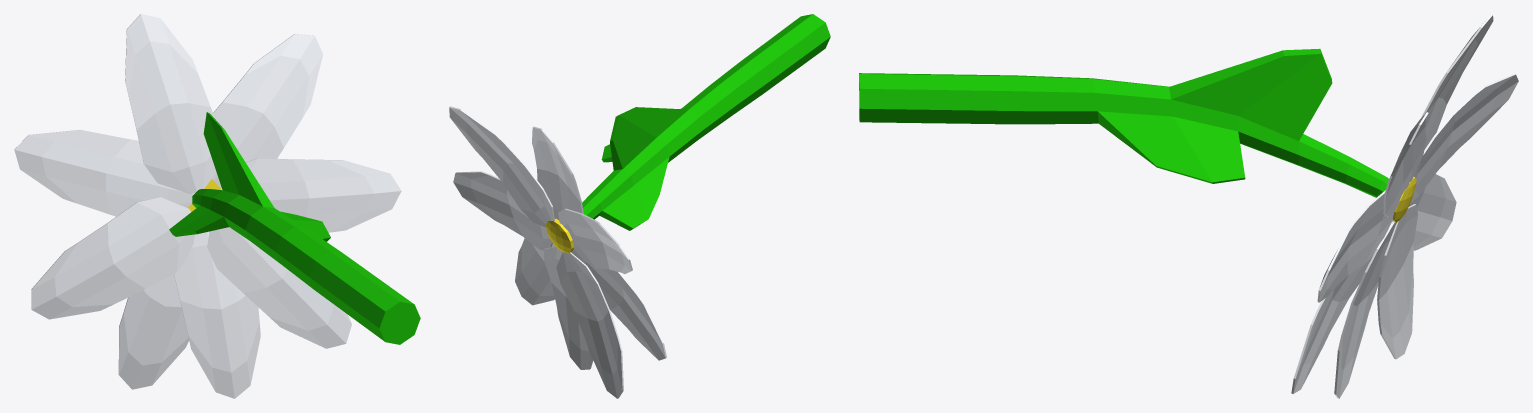
Rendered from Flower1.fbx.
3 views of the same model, side by side, from view 1: azimuth 30°, elevation 25°; view 2: azimuth 150°, elevation 25°; view 3: azimuth 270°, elevation 25° (orthographic). The views are drawn at different scales.
Parts seen in each view (by area): view 1: Cylinder; view 2: Cylinder; view 3: Cylinder.
Boxes of the visible parts, left/top/right/bottom form: Cylinder: left=14, top=14, right=420, bottom=398; Cylinder: left=449, top=14, right=830, bottom=398; Cylinder: left=859, top=14, right=1518, bottom=398.
Bounding box in the file's own units: 13.67 × 14.29 × 22.97.
